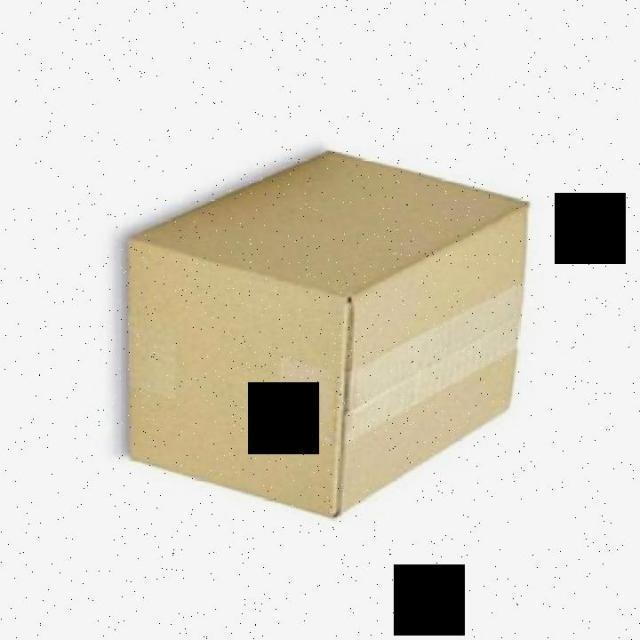box: (117, 144, 546, 526)
